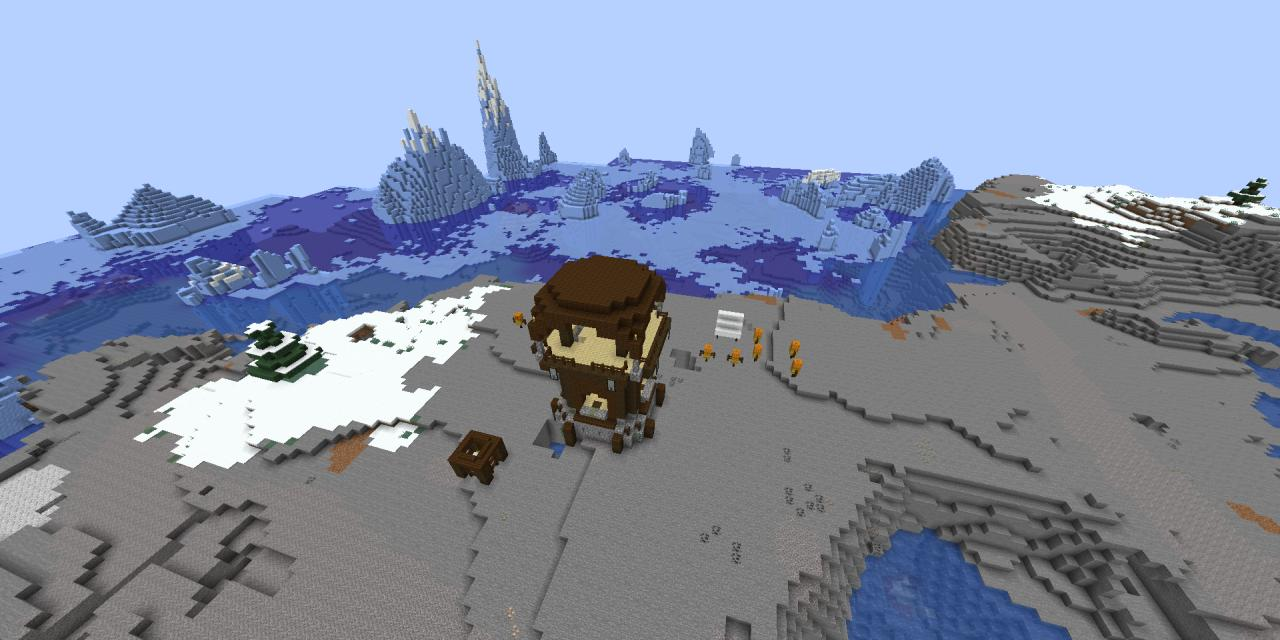pillager outpost: (527, 244, 689, 463)
